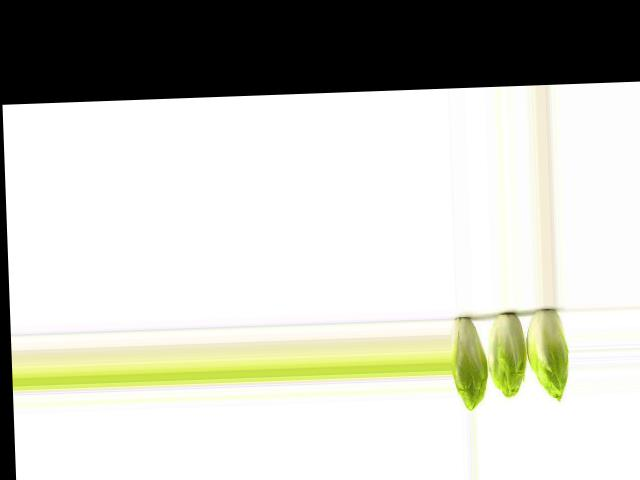lettuce: (526, 304, 570, 402)
